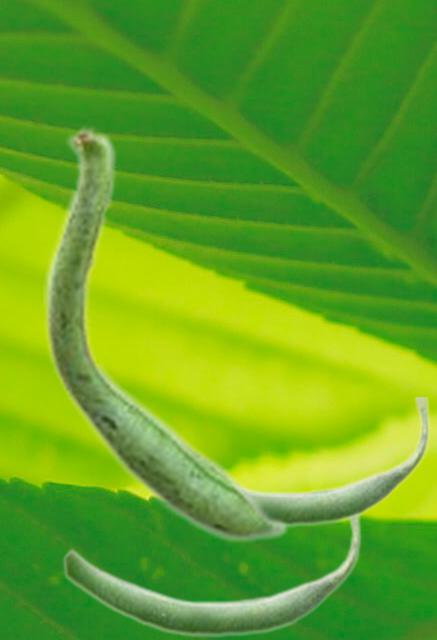french_bean: (43, 123, 288, 543), (62, 517, 361, 638), (249, 397, 430, 528)
